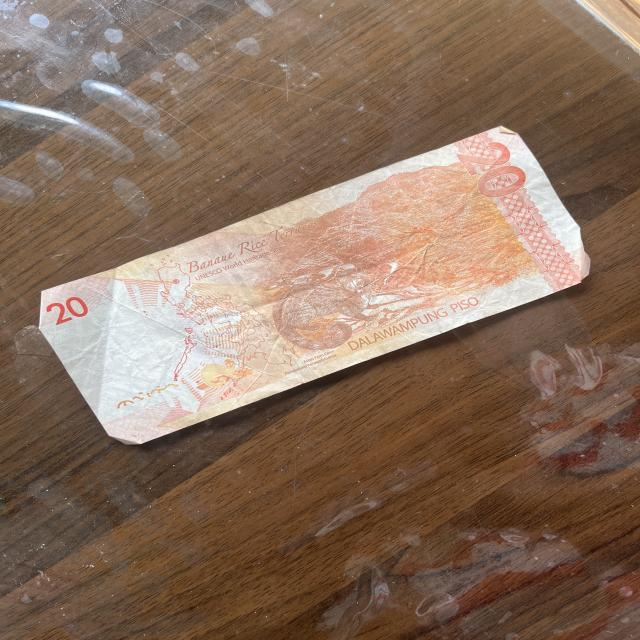20_civet: (277, 270, 376, 348)
20_civet_watermark: (192, 352, 250, 388)
